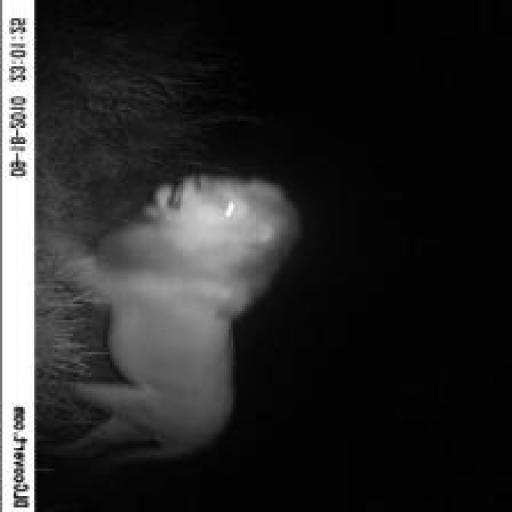lion: (43, 160, 304, 469)
